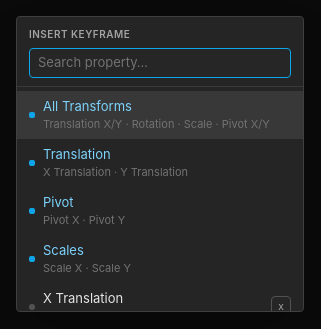
Test: InsertKeyframePopup › promotes the r shorthand to Rotation
The width and height of the screenshot is (321, 329).
In the field with placeholder "Search property…": (160, 63) [29,48,291,78], type "r"
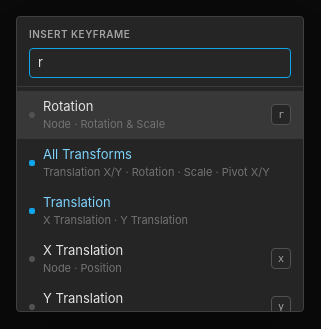
Now the text "Rotation" is shown, box [43,98,94,114]
